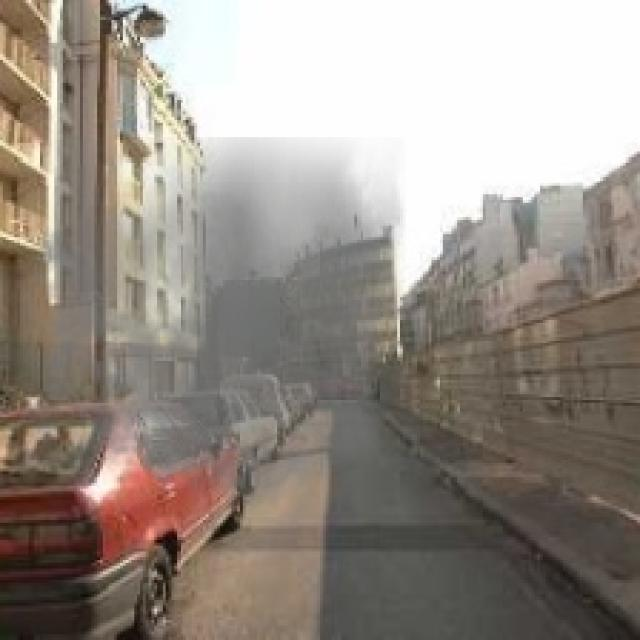smoke: (20, 137, 406, 532)
